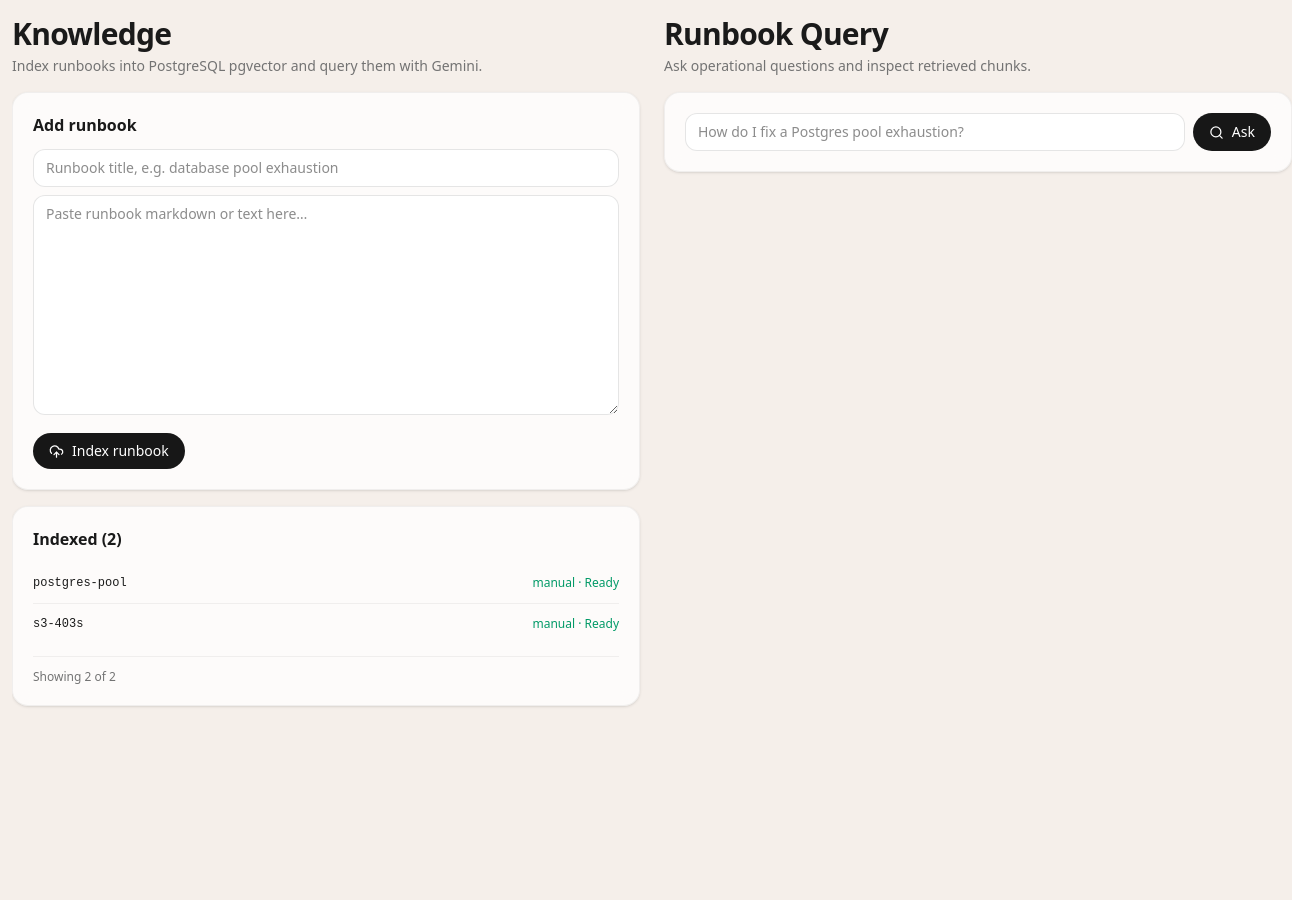
Test: as an operator › reports a failed query rather than showing nothing
Type "Anything" into the field with placeholder "How do I fix a Postgres pool exhaustion?". click: (935, 132)
box: [685,113,1185,151]
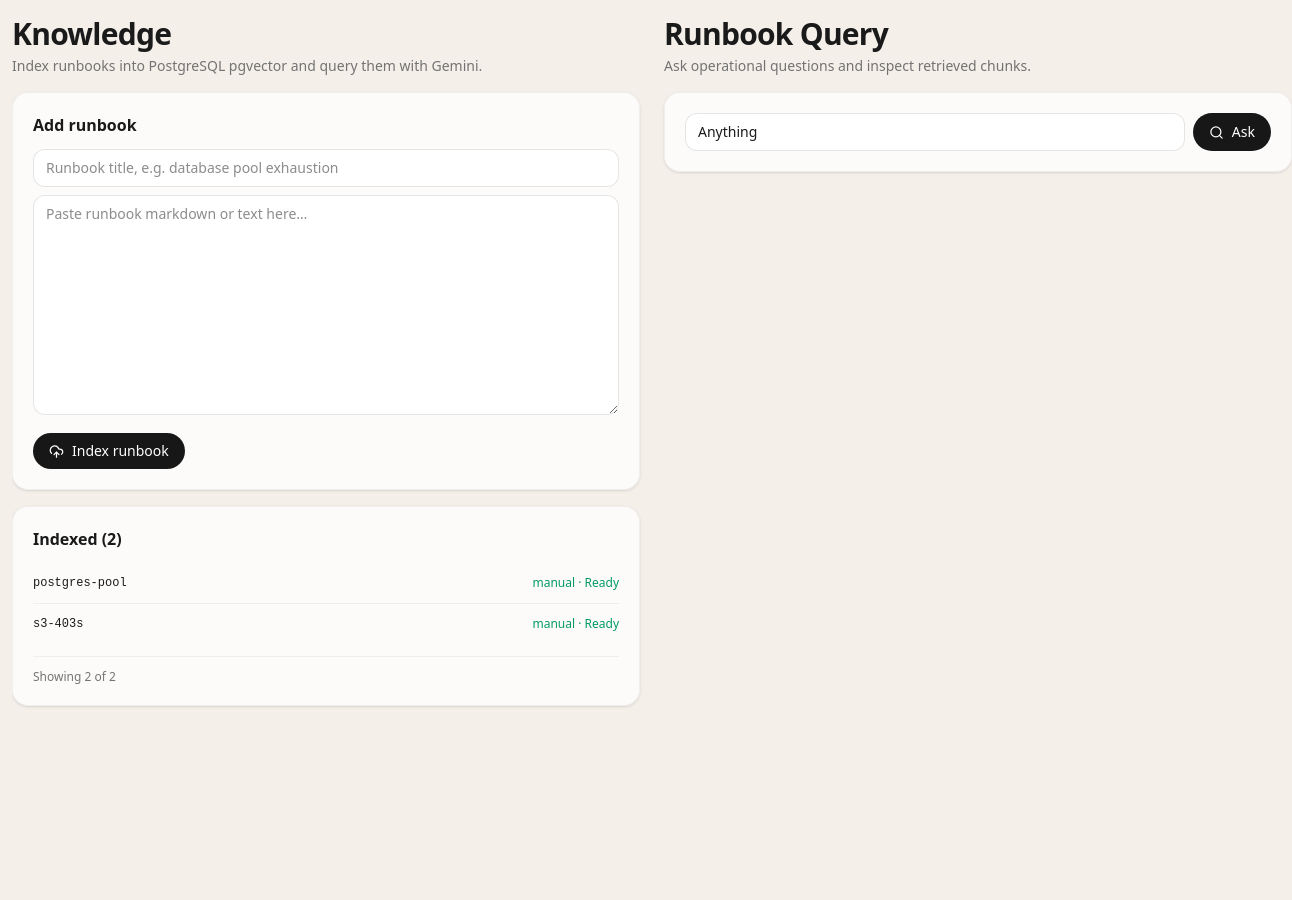
Click the button "Ask". click: (1232, 132)
box: [1193,113,1271,151]
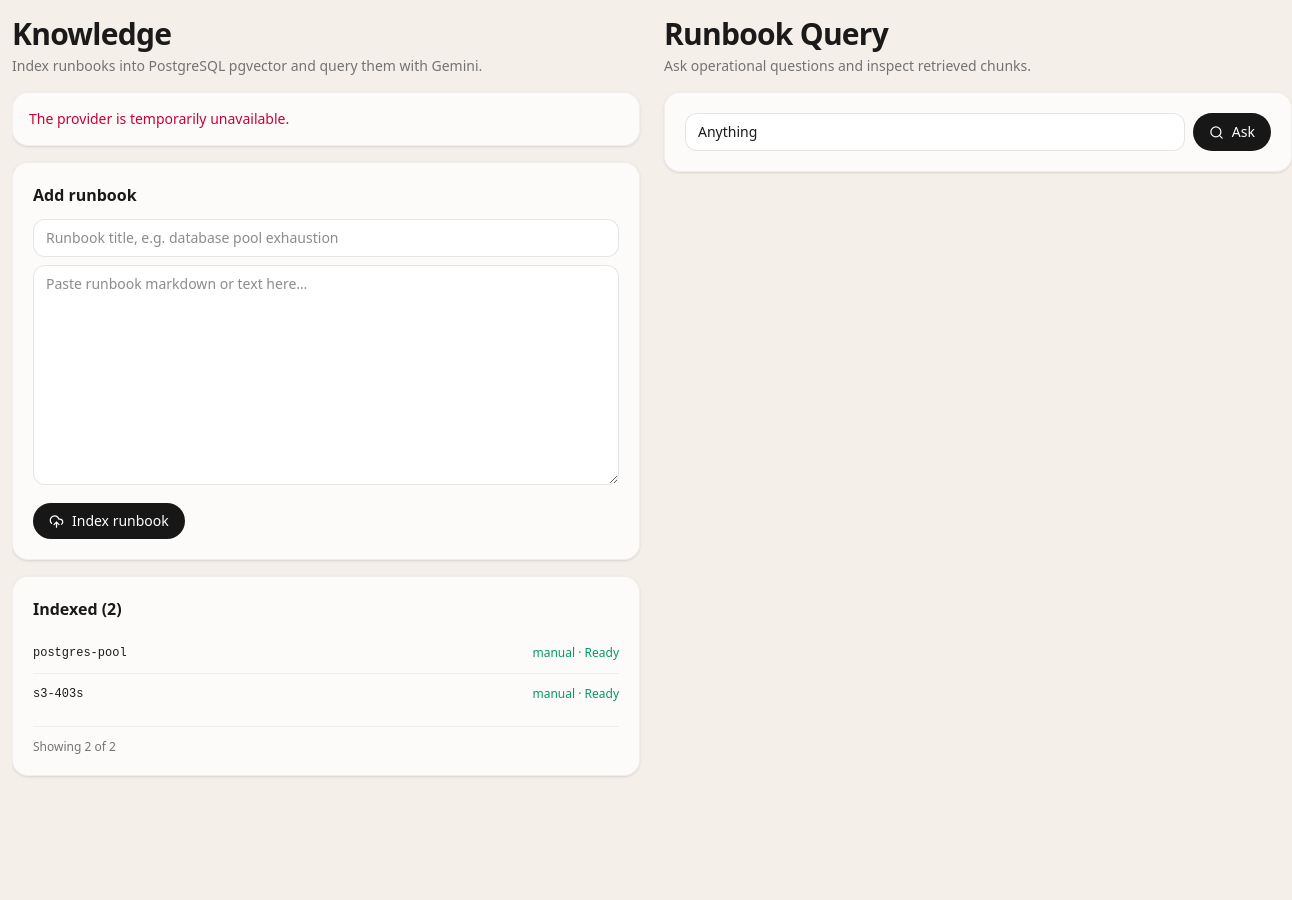
Expected: the text "The provider is temporarily unavailable." is shown, [12,92,640,146]
